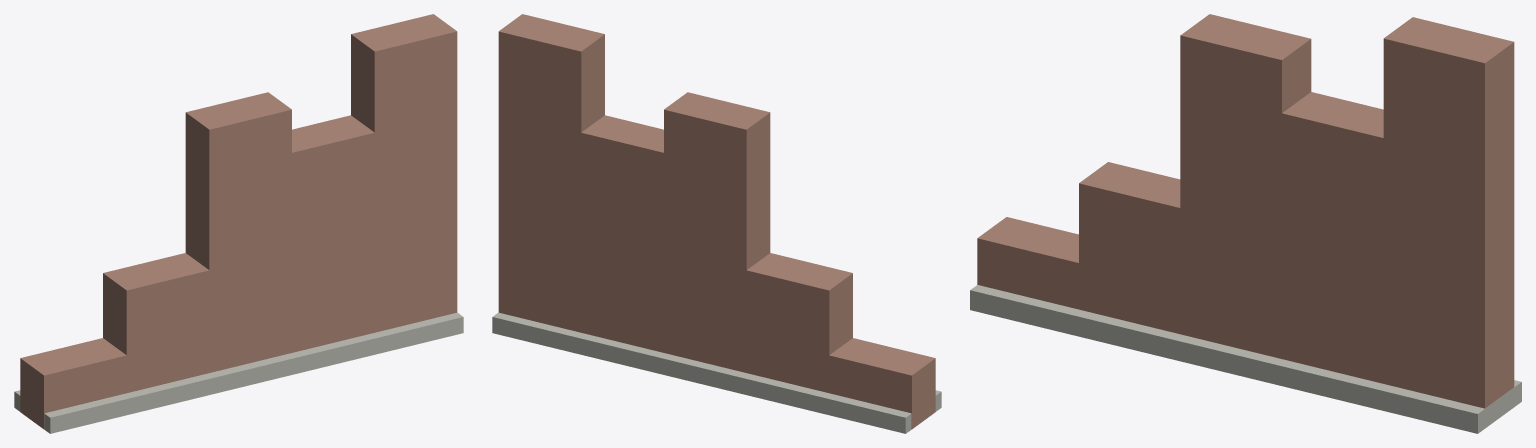
The model's file is three-d-zombie-quarantine-streets-zombie-quarantine-streets-fractured-wall-right-f204050b.glb.
3 views of the same model, side by side, from view 1: azimuth 30°, elevation 25°; view 2: azimuth 150°, elevation 25°; view 3: azimuth 330°, elevation 25° (orthographic). The views are drawn at different scales.
Parts seen in each view (by area): view 1: fractured-wall-right; view 2: fractured-wall-right; view 3: fractured-wall-right.
Part boxes in pixels (box(x1,y1,x2,y2)): fractured-wall-right: box(14, 14, 463, 433); fractured-wall-right: box(492, 14, 941, 433); fractured-wall-right: box(970, 14, 1521, 433).
Bounding box in the file's own units: 4 × 2.75 × 0.6001.
